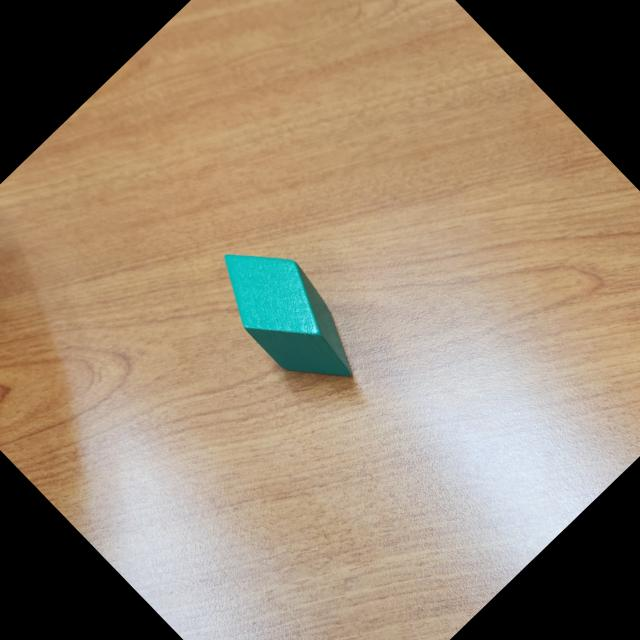green: (195, 220, 382, 410)
